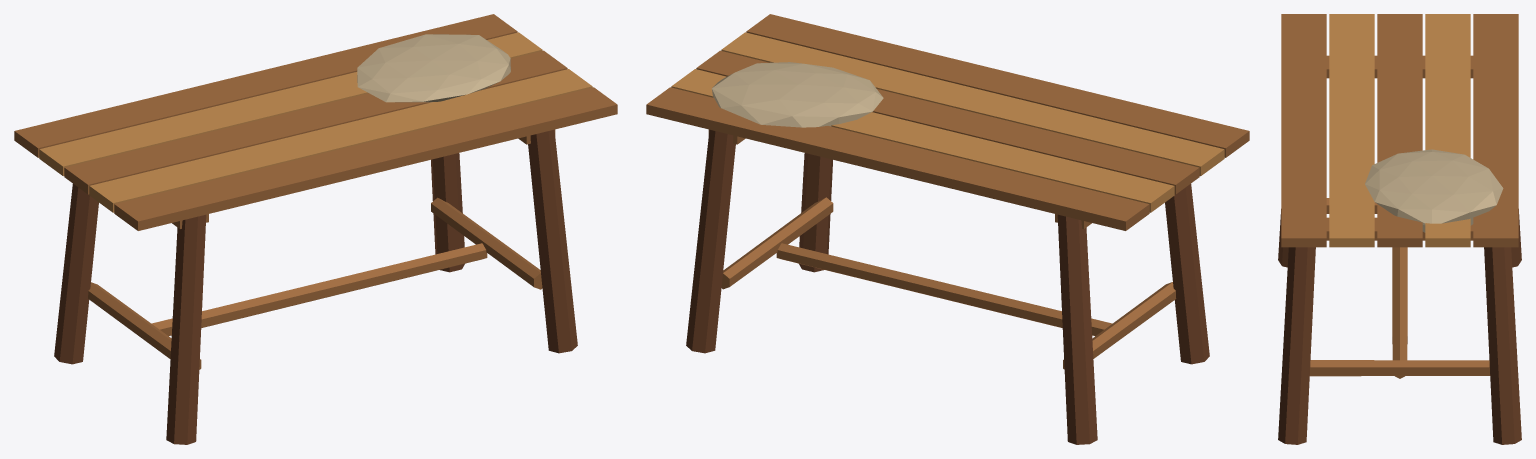
The model's file is table.glb.
3 views of the same model, side by side, from view 1: azimuth 30°, elevation 25°; view 2: azimuth 150°, elevation 25°; view 3: azimuth 270°, elevation 25° (orthographic). The views are drawn at different scales.
Parts seen in each view (by area): view 1: table.001; view 2: table.001; view 3: table.001.
Boxes of the visible parts, <box> form: table.001: <box>14,14,617,444</box>; table.001: <box>646,14,1249,444</box>; table.001: <box>1278,14,1521,444</box>.
Size of the model in its own units: 1.72 by 0.8522 by 0.7906.
